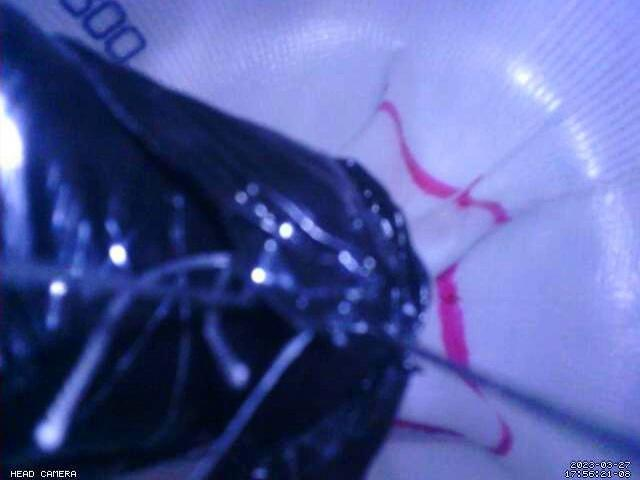red-circle: (377, 100, 515, 458)
